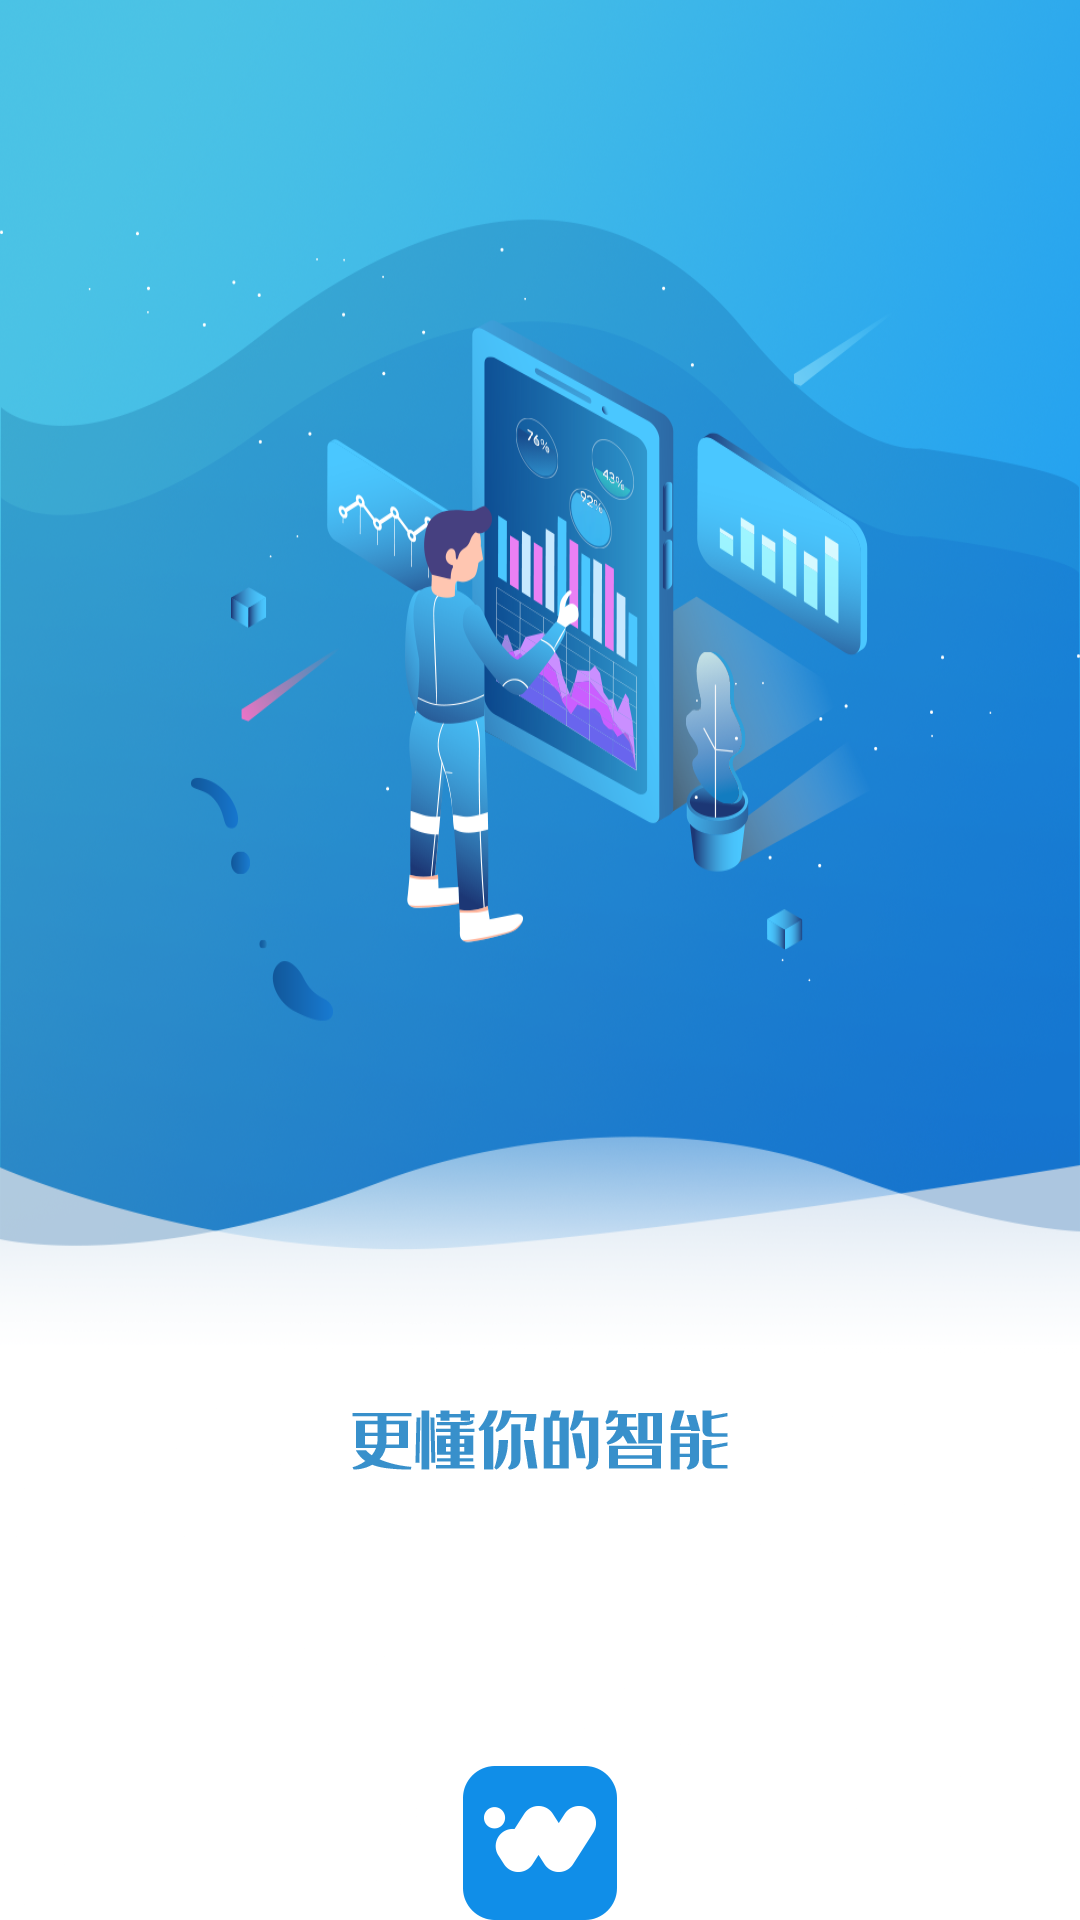

Where to tap for icons on this 1080*1920 app screen, as (x,y):
app: (540,1843)
